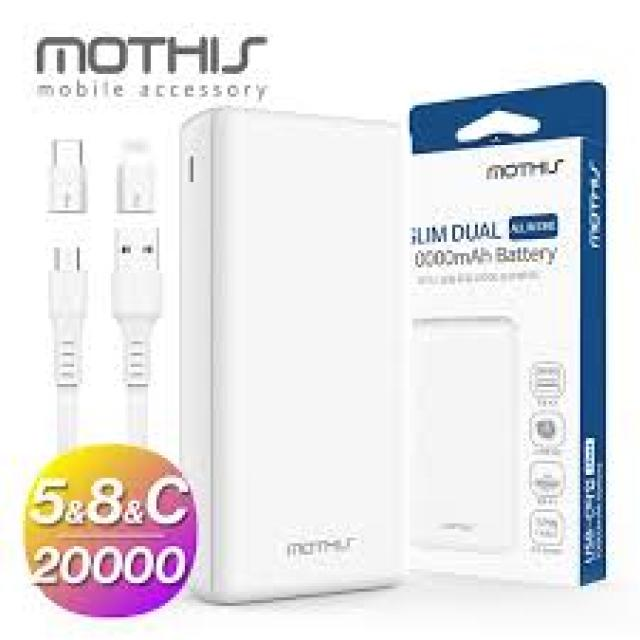portable-charger: (175, 108, 409, 597), (400, 312, 521, 558)
